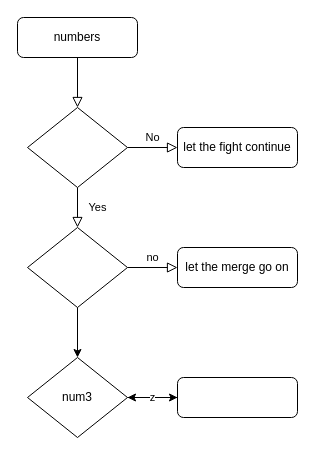
Some shapes in this 315 by 455 pixel diagram are drawn without their labels. The shapes that lost their labels are listed below. From the top down, each one's centre as x and y in pixels, then its label:
At (77,147): "NUM1".
At (77,267): "num2".
